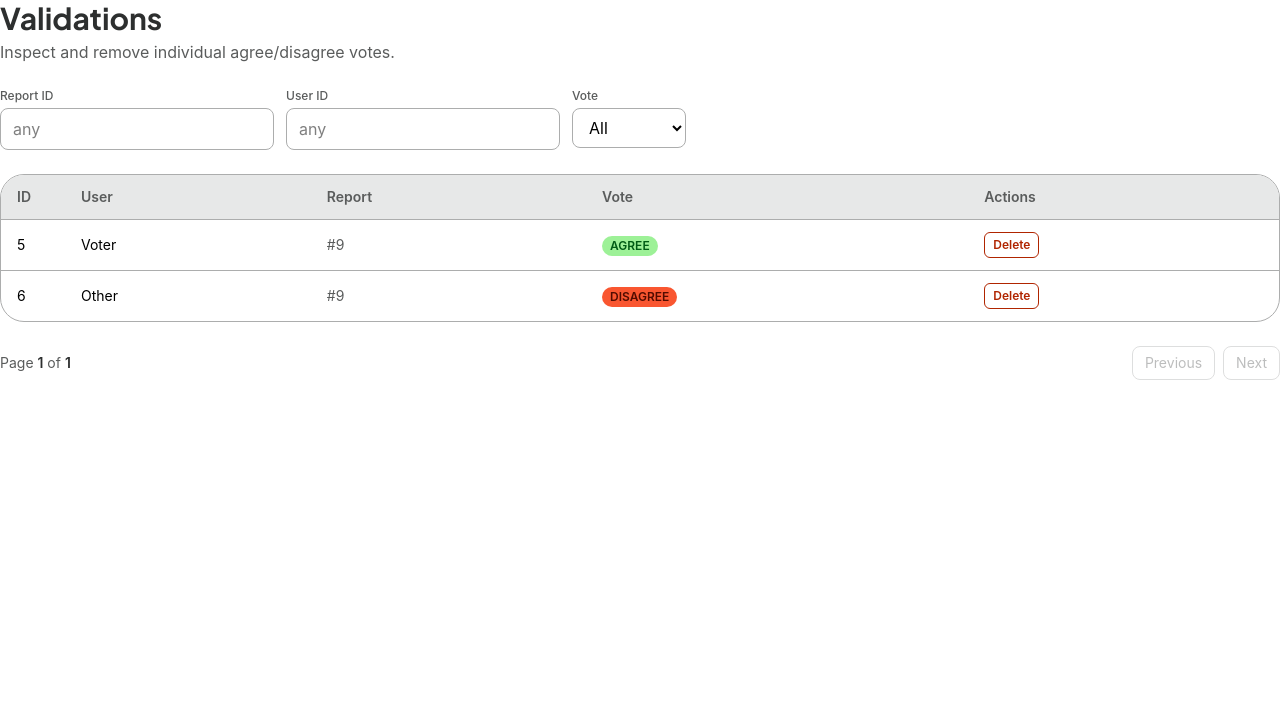
Test: AdminValidationsPage › shows delete errors
The image size is (1280, 720).
Expected: the text "Voter" is shown, [65,220,311,270]
Click the button "Delete" in the row of "Voter": (1012, 245) [984,232,1040,258]
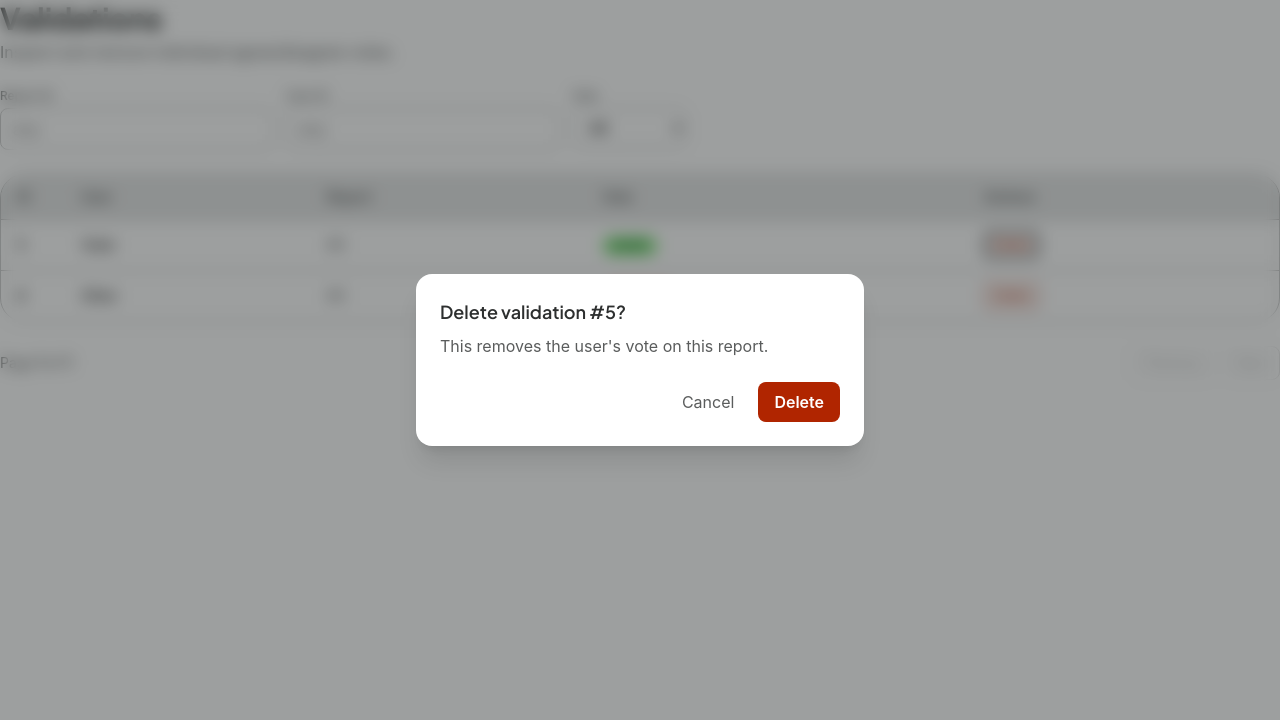
Click the button "Delete": (799, 402) [758,382,840,422]
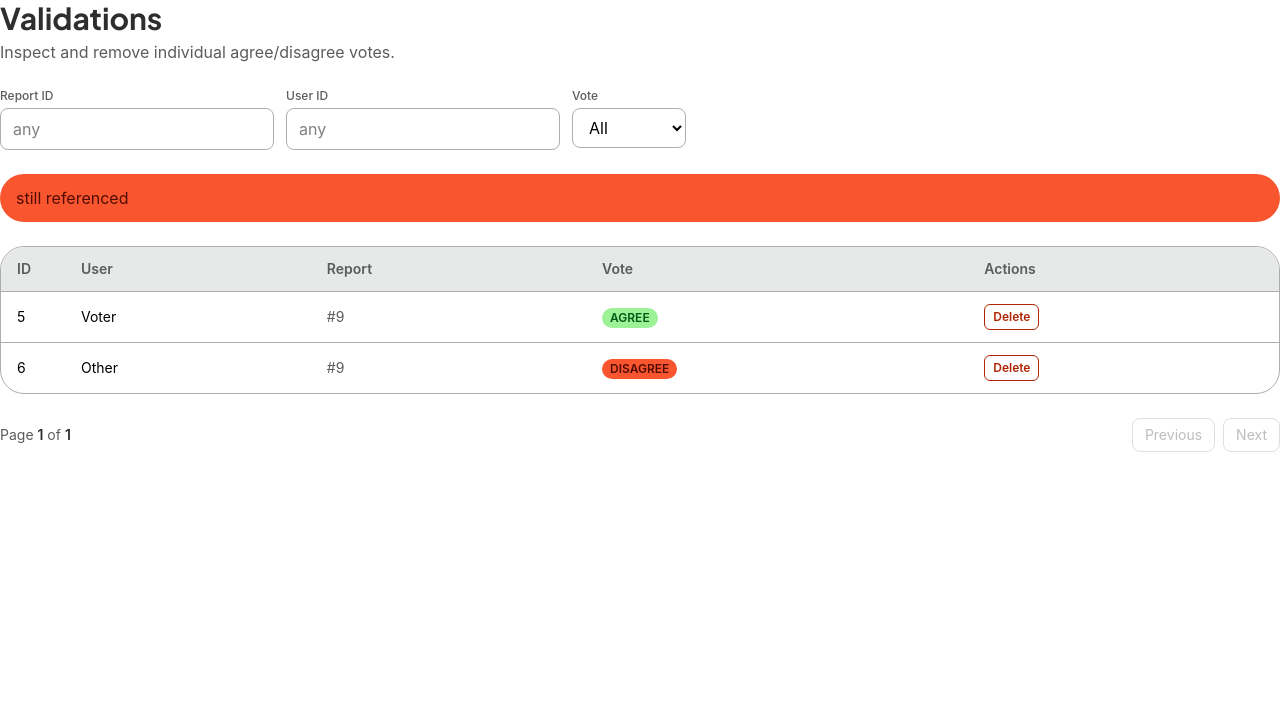
Expected: the text "still referenced" is shown, [0,174,1279,222]
